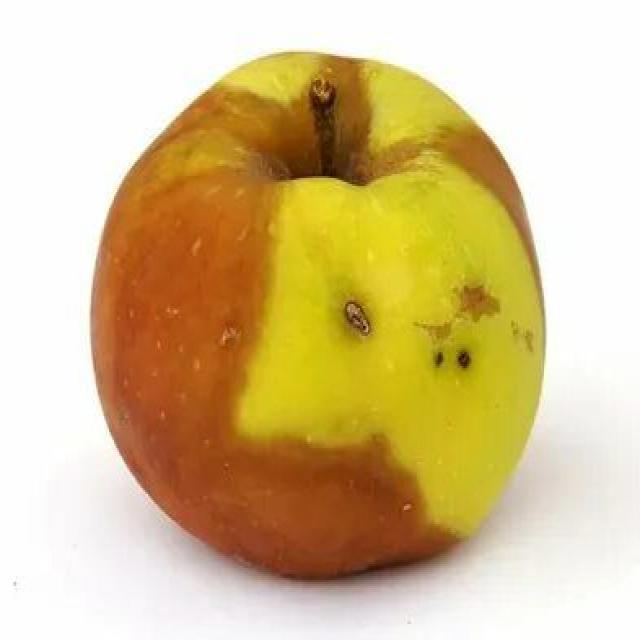Apple: (87, 42, 555, 578)
